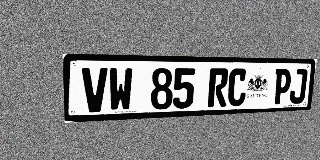5: (173, 68, 195, 109)
8: (151, 68, 174, 110)
C: (227, 68, 248, 106)
J: (289, 69, 308, 104)
P: (272, 69, 292, 104)
R: (207, 68, 229, 107)
V: (82, 67, 108, 113)
W: (109, 68, 133, 112)
